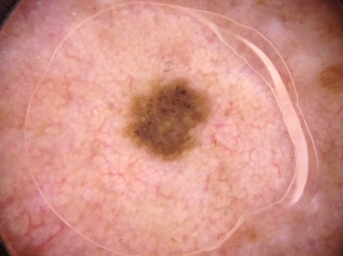seborrheic keratosis: (112, 58, 221, 181)
